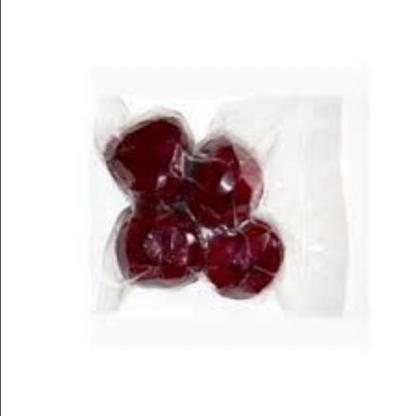beet: (107, 107, 294, 309)
